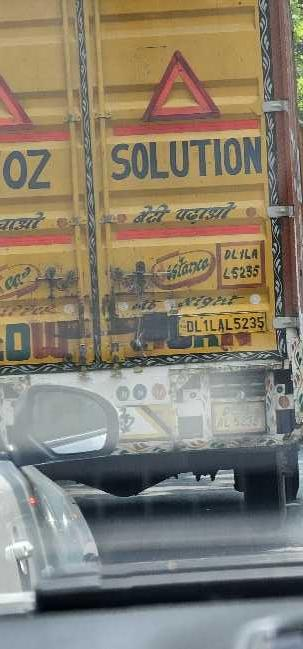License plate: (220, 245, 261, 285)
